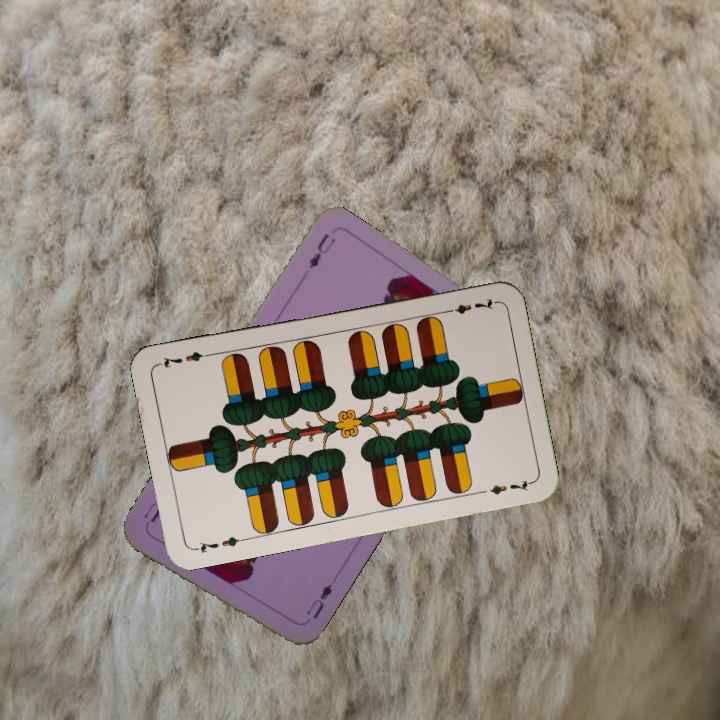E7: (190, 532, 249, 556), (440, 294, 498, 317)
EU: (304, 229, 339, 272), (302, 580, 335, 622)
